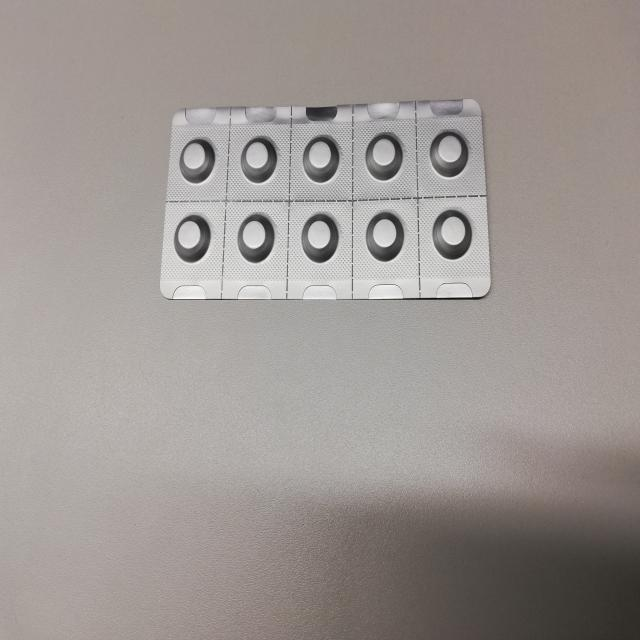Pill: (423, 198, 478, 265), (419, 120, 471, 187), (357, 204, 410, 268), (293, 124, 343, 191), (229, 208, 278, 272), (357, 124, 405, 189), (296, 206, 344, 268), (170, 134, 223, 184), (235, 132, 282, 187), (167, 206, 210, 266)
